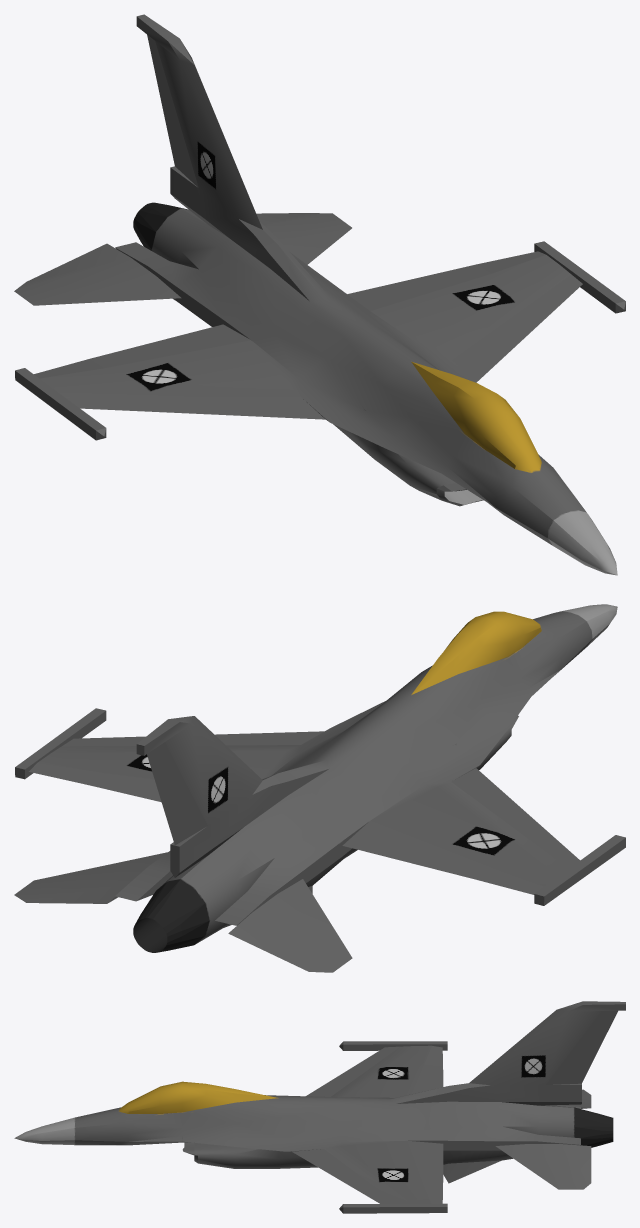
3 renders of one model, top to bottom at view 1: azimuth 30°, elevation 25°; view 2: azimuth 150°, elevation 25°; view 3: azimuth 270°, elevation 25°, orthographic. The views are drawn at different scales.
Visible parts, largest first — view 1: Body, ElevonR, LeadingFlapR, LeadingFlapL, ElevonL, FlaperonR, FlaperonL, Rudder; view 2: Body, ElevonR, ElevonL, FlaperonR, LeadingFlapR, Rudder, LeadingFlapL, FlaperonL; view 3: Body, ElevonL, Rudder, LeadingFlapL, FlaperonL, LeadingFlapR, FlaperonR.
Part boxes in pixels (bbox=[...]): Body: bbox=[15, 14, 625, 575]; ElevonR: bbox=[14, 243, 181, 305]; LeadingFlapR: bbox=[67, 396, 325, 419]; LeadingFlapL: bbox=[451, 274, 582, 382]; ElevonL: bbox=[256, 213, 351, 264]; FlaperonR: bbox=[90, 324, 250, 368]; FlaperonL: bbox=[347, 264, 490, 310]; Rudder: bbox=[147, 35, 198, 187]; Body: bbox=[15, 604, 625, 952]; ElevonR: bbox=[228, 879, 352, 972]; ElevonL: bbox=[14, 852, 167, 903]; FlaperonR: bbox=[342, 820, 490, 879]; LeadingFlapR: bbox=[451, 768, 579, 868]; Rudder: bbox=[147, 742, 207, 845]; LeadingFlapL: bbox=[62, 731, 323, 746]; FlaperonL: bbox=[90, 773, 161, 802]; Body: bbox=[14, 1001, 625, 1213]; ElevonL: bbox=[495, 1144, 591, 1189]; Rudder: bbox=[545, 1010, 617, 1084]; LeadingFlapL: bbox=[292, 1149, 396, 1203]; FlaperonL: bbox=[408, 1141, 443, 1186]; LeadingFlapR: bbox=[306, 1046, 399, 1096]; FlaperonR: bbox=[412, 1064, 443, 1093].
Bounding box in the file's own units: 9.51 × 4.54 × 14.84.
1 material, 1 textured.
